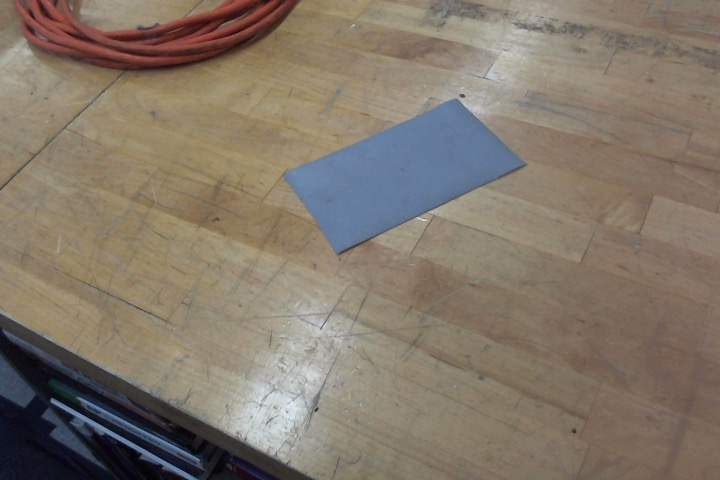Tape: (283, 99, 530, 255)
